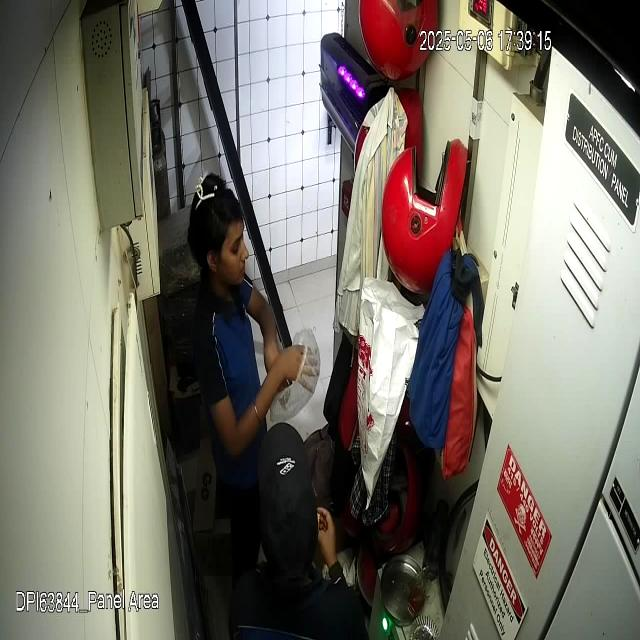helmet: (382, 141, 469, 298)
no_helmet: (185, 174, 249, 282)
